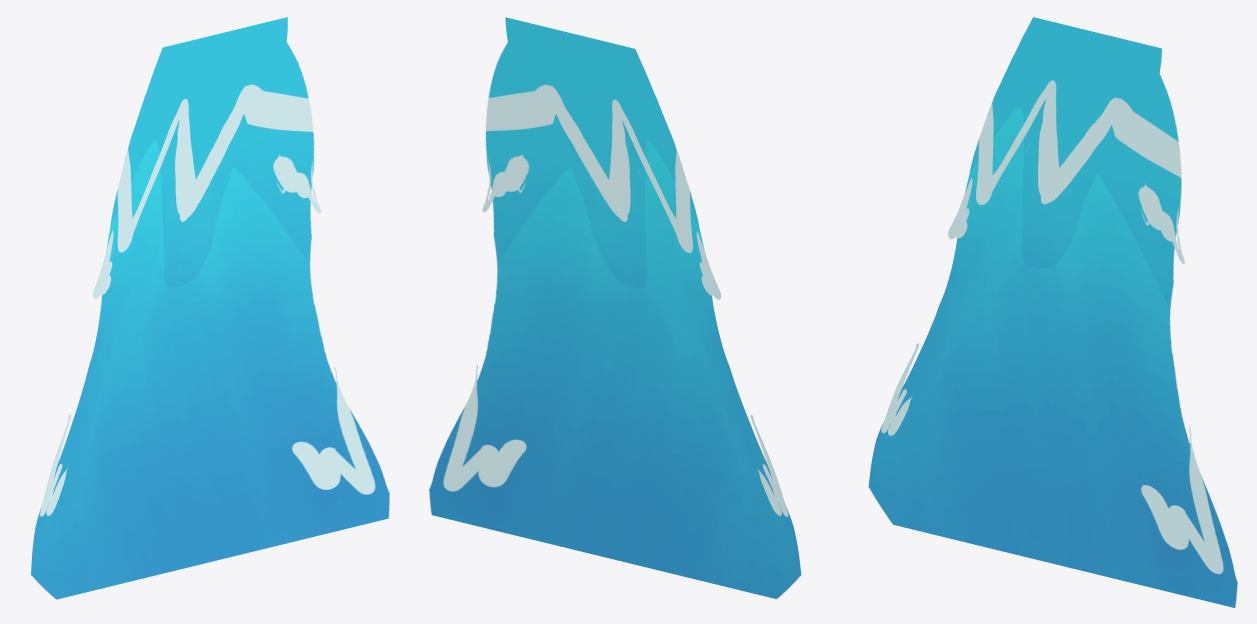
The model's file is WaterFallMesh.glb.
The picture shows the model from 3 angles, left to right: view 1: azimuth 30°, elevation 25°; view 2: azimuth 150°, elevation 25°; view 3: azimuth 330°, elevation 25°; orthographic projection. The views are drawn at different scales.
Visible parts, largest first — view 1: WaterfallAnimation; view 2: WaterfallAnimation; view 3: WaterfallAnimation.
Part boxes in pixels (x1,y1,x2,y2): WaterfallAnimation: (31,17,389,599); WaterfallAnimation: (429,17,801,599); WaterfallAnimation: (868,17,1237,608).
Bounding box in the file's own units: 2.65 × 3.4 × 0.1808.
Materials: 1 (1 with a texture image).
